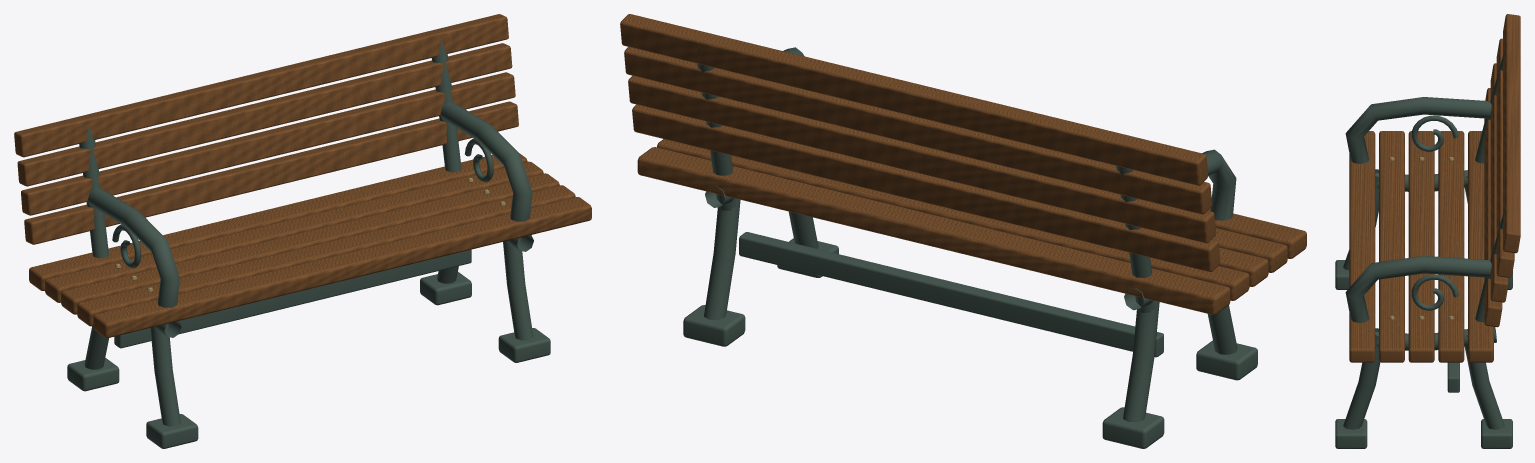
File: bench.glb
3 views of the same model, side by side, from view 1: azimuth 30°, elevation 25°; view 2: azimuth 150°, elevation 25°; view 3: azimuth 270°, elevation 25° (orthographic). The views are drawn at different scales.
Parts seen in each view (by area): view 1: bench; view 2: bench; view 3: bench.
Part boxes in pixels (x1=…): bench: x1=14, y1=14, x2=591, y2=448; bench: x1=620, y1=14, x2=1306, y2=448; bench: x1=1335, y1=14, x2=1520, y2=448.
Size of the model in its own units: 2.1 by 1.07 by 0.7504.
3 materials, 1 textured.
